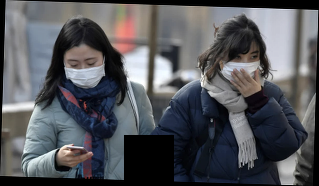with_mask: (63, 56, 105, 91), (222, 49, 261, 85)
